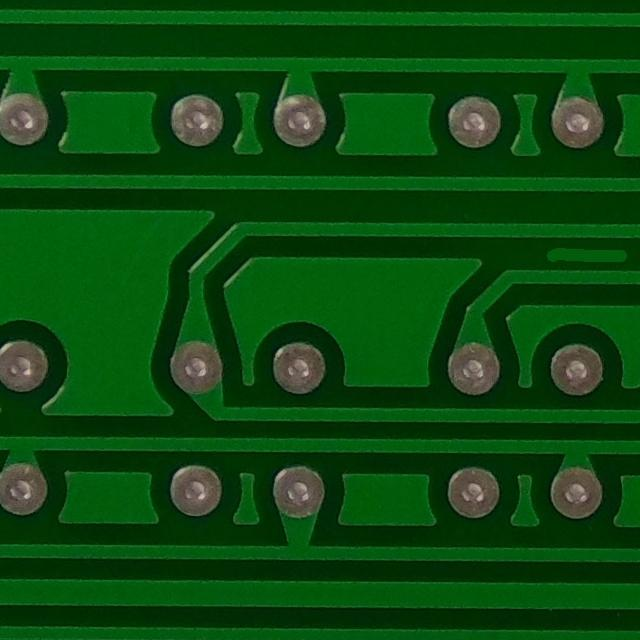spurious_copper: (538, 234, 631, 281)
